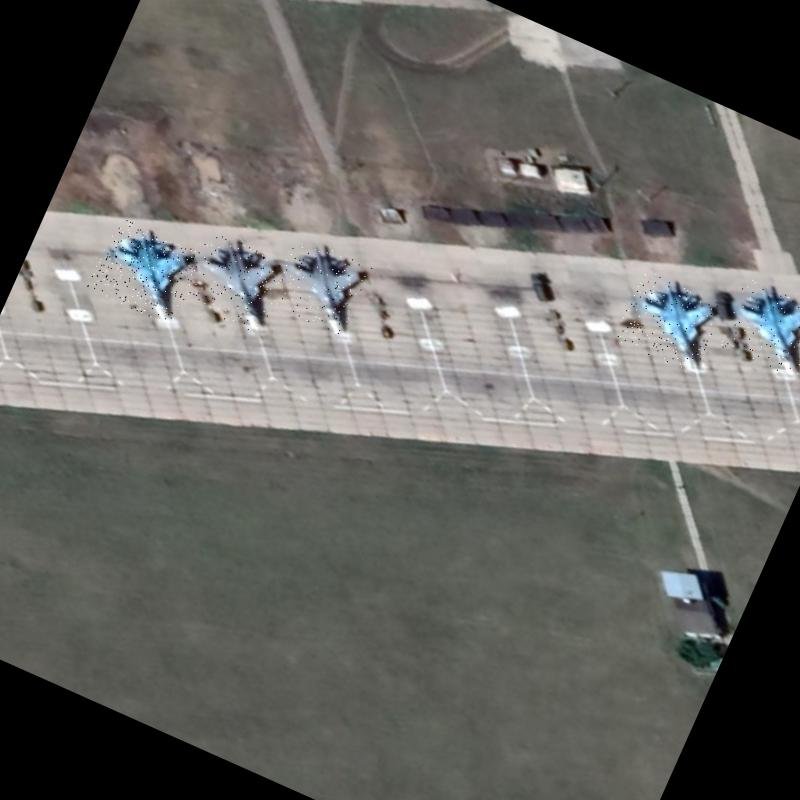A19: (86, 216, 202, 326), (178, 229, 292, 336), (613, 269, 725, 375), (266, 235, 372, 338), (715, 274, 800, 380)
